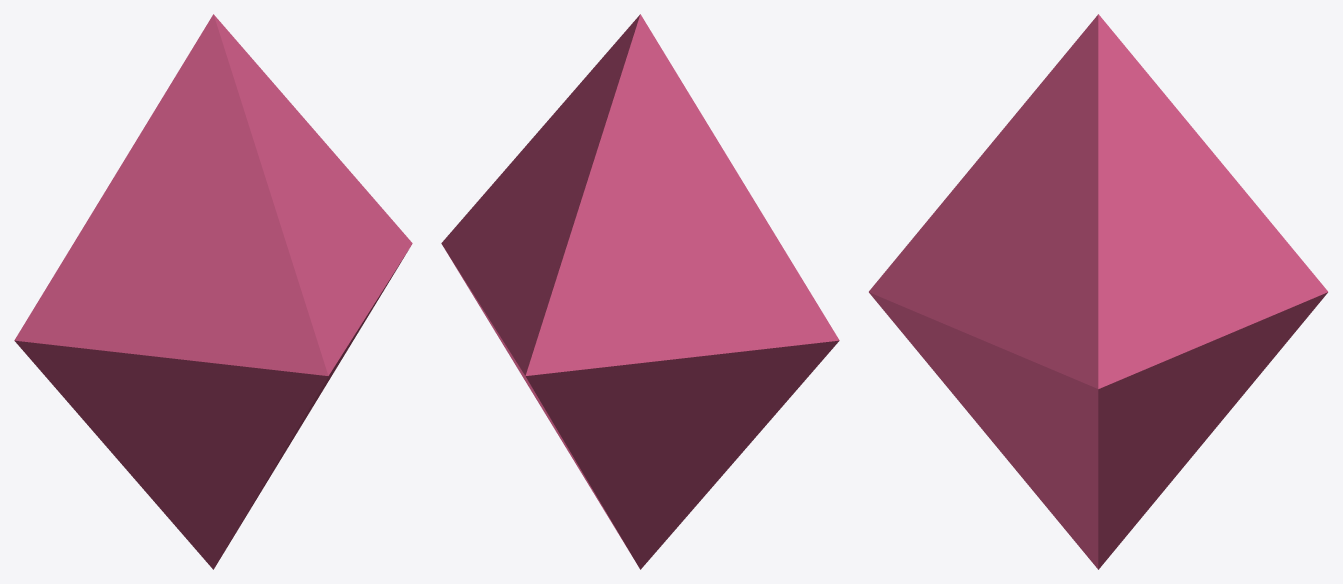
File: romb-bordowyy.glb
3 renders of one model, left to right at view 1: azimuth 30°, elevation 25°; view 2: azimuth 150°, elevation 25°; view 3: azimuth 270°, elevation 25°, orthographic.
Parts seen in each view (by area): view 1: RombCrystalRuby; view 2: RombCrystalRuby; view 3: RombCrystalRuby.
Boxes of the visible parts, x1,y1,x2,y2 form: RombCrystalRuby: (14,14,412,569); RombCrystalRuby: (441,14,839,569); RombCrystalRuby: (869,14,1327,569).
Size of the model in its own units: 3 by 4 by 3.
